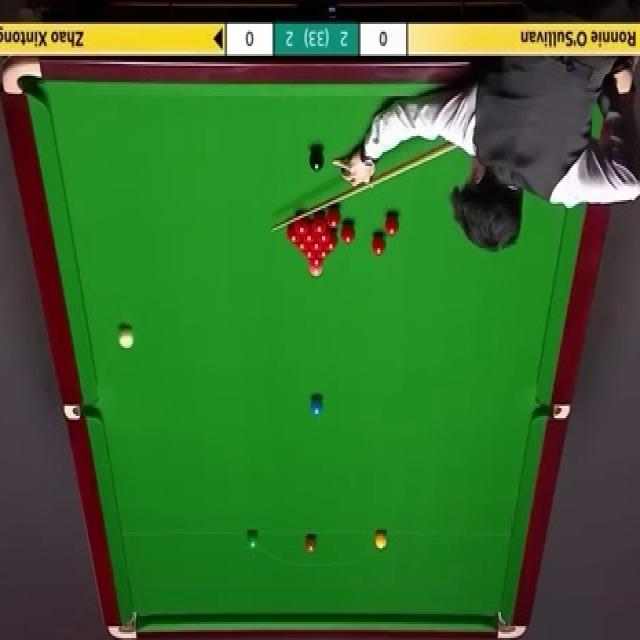pocket: (2, 61, 42, 95), (106, 610, 136, 640), (498, 613, 527, 640), (537, 400, 569, 421), (64, 400, 97, 420)
